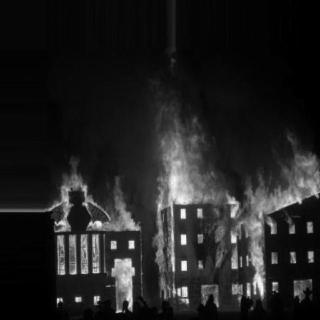Fire: (152, 49, 248, 310), (45, 143, 142, 313)
